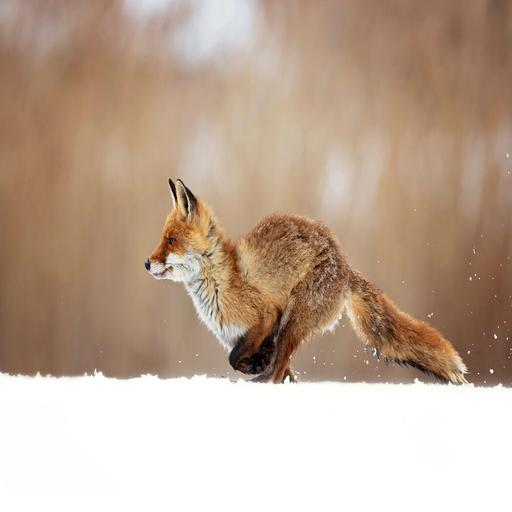Fox: (145, 176, 472, 380)
